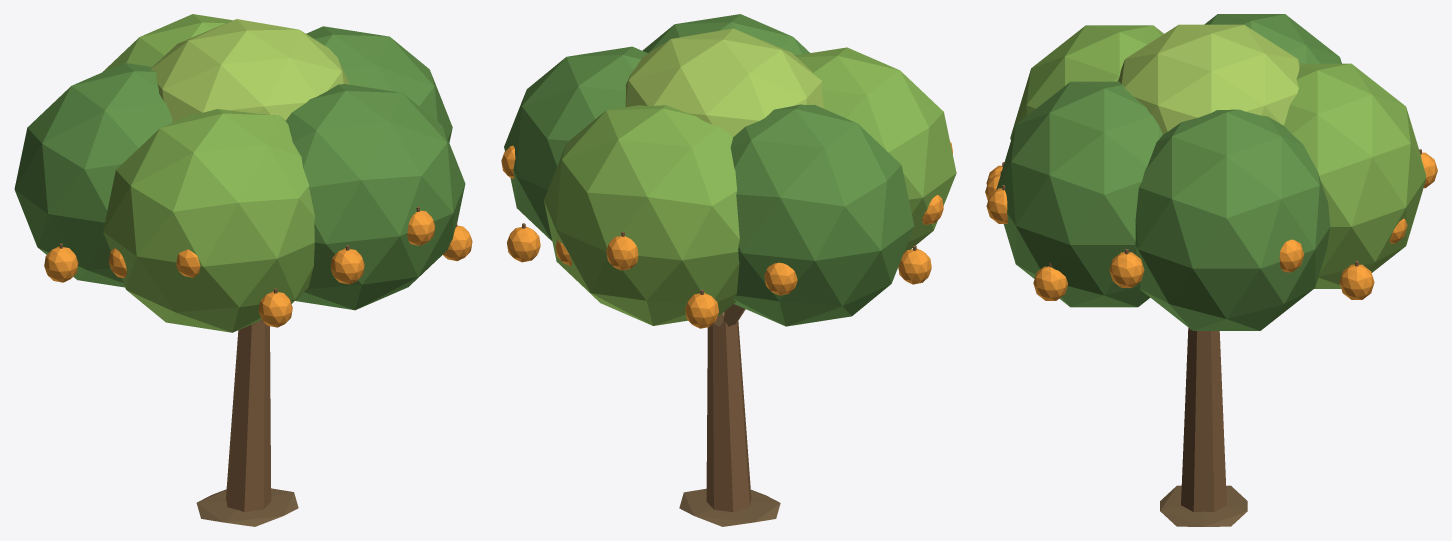
The model's file is farm_art_orchard_mature.glb.
The picture shows the model from 3 angles, left to right: view 1: azimuth 30°, elevation 25°; view 2: azimuth 150°, elevation 25°; view 3: azimuth 270°, elevation 25°; orthographic projection.
Parts seen in each view (by area): view 1: Rounded orchard canopy.006, Rounded orchard canopy.007, Rounded orchard canopy.005, Sunlit crown.001, Tapered fruit tree trunk.001, Rounded orchard canopy.003, Rounded orchard canopy.004, Root soil collar.001, Ripe orange.011, Ripe orange.012, Ripe orange.008, Ripe orange.013 (+2 smaller); view 2: Rounded orchard canopy.004, Rounded orchard canopy.005, Sunlit crown.001, Rounded orchard canopy.006, Rounded orchard canopy.003, Tapered fruit tree trunk.001, Rounded orchard canopy.007, Root soil collar.001, Ripe orange.005, Ripe orange.002, Ripe orange.008, Ripe orange.004 (+1 smaller); view 3: Rounded orchard canopy.003, Rounded orchard canopy.007, Rounded orchard canopy.004, Sunlit crown.001, Tapered fruit tree trunk.001, Rounded orchard canopy.006, Rounded orchard canopy.005, Root soil collar.001, Ripe orange.015, Ripe orange.002, Ripe orange.014, Ripe orange.001 (+1 smaller).
Boxes of the visible parts, <box> form: Rounded orchard canopy.006: <box>103,109,314,332</box>; Rounded orchard canopy.007: <box>286,84,465,310</box>; Rounded orchard canopy.005: <box>14,62,172,287</box>; Sunlit crown.001: <box>150,19,349,122</box>; Tapered fruit tree trunk.001: <box>226,320,271,511</box>; Rounded orchard canopy.003: <box>306,26,452,142</box>; Rounded orchard canopy.004: <box>102,14,232,72</box>; Root soil collar.001: <box>196,488,298,526</box>; Ripe orange.011: <box>258,291,292,327</box>; Ripe orange.012: <box>330,248,364,284</box>; Ripe orange.008: <box>44,246,78,282</box>; Ripe orange.013: <box>407,210,435,245</box>; Rounded orchard canopy.004: <box>544,105,739,325</box>; Rounded orchard canopy.005: <box>730,104,914,326</box>; Sunlit crown.001: <box>625,28,823,136</box>; Rounded orchard canopy.006: <box>795,47,956,252</box>; Rounded orchard canopy.003: <box>504,46,647,241</box>; Tapered fruit tree trunk.001: <box>706,321,751,512</box>; Rounded orchard canopy.007: <box>642,14,809,55</box>; Root soil collar.001: <box>679,488,780,526</box>; Ripe orange.005: <box>685,292,718,328</box>; Ripe orange.002: <box>507,226,540,262</box>; Ripe orange.008: <box>898,248,931,284</box>; Ripe orange.004: <box>606,236,638,270</box>; Rounded orchard canopy.003: <box>1135,109,1330,330</box>; Rounded orchard canopy.007: <box>996,81,1162,307</box>; Rounded orchard canopy.004: <box>1284,63,1425,288</box>; Sunlit crown.001: <box>1118,24,1300,134</box>; Tapered fruit tree trunk.001: <box>1181,328,1226,511</box>; Rounded orchard canopy.006: <box>1010,25,1163,139</box>; Rounded orchard canopy.005: <box>1204,14,1341,63</box>; Root soil collar.001: <box>1160,485,1247,526</box>; Ripe orange.015: <box>1109,252,1144,287</box>; Ripe orange.002: <box>1339,264,1374,299</box>; Ripe orange.014: <box>1033,266,1067,300</box>; Ripe orange.001: <box>1279,239,1304,272</box>.
Size of the model in its own units: 3.7 by 4.2 by 3.6.
